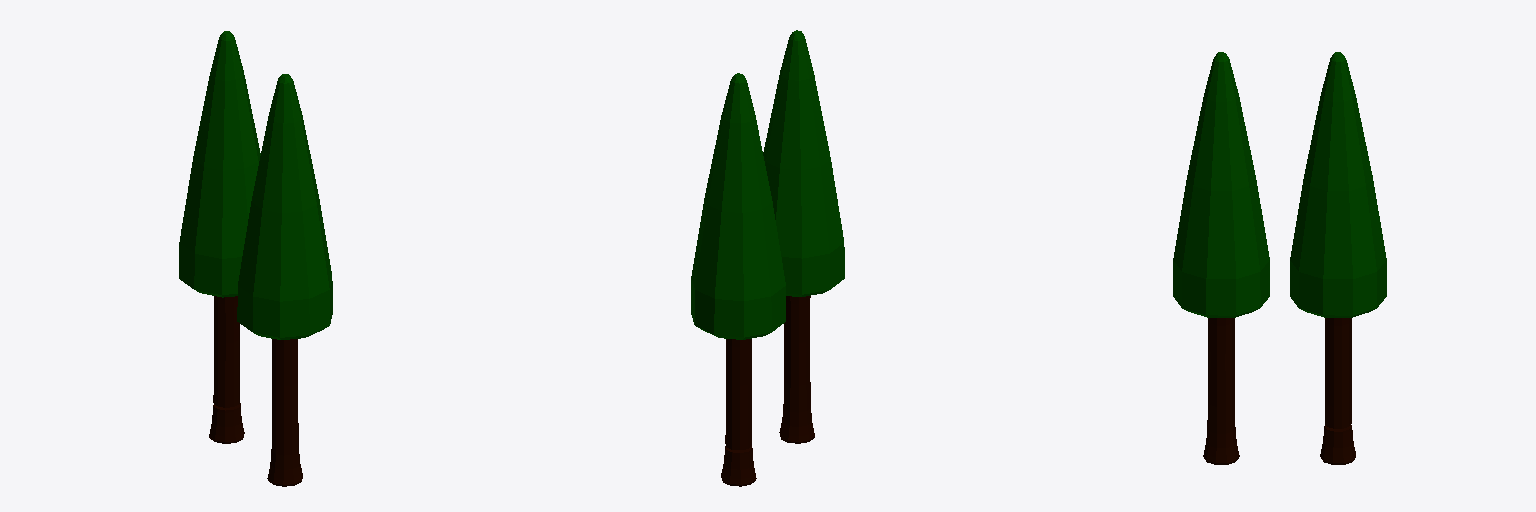
File: Pino.obj
3 renders of one model, left to right at view 1: azimuth 30°, elevation 25°; view 2: azimuth 150°, elevation 25°; view 3: azimuth 270°, elevation 25°, orthographic.
Visible parts, largest first — view 1: Pino Entero, Pino Talado, Tocon; view 2: Pino Talado, Pino Entero, Tocon; view 3: Pino Entero, Pino Talado, Tocon.
Boxes of the visible parts, x1,y1,x2,y2 form: Pino Entero: [237, 74, 332, 486]; Pino Talado: [179, 31, 260, 407]; Tocon: [209, 403, 244, 443]; Pino Talado: [691, 73, 785, 449]; Pino Entero: [763, 30, 844, 443]; Tocon: [721, 446, 756, 486]; Pino Entero: [1173, 52, 1269, 464]; Pino Talado: [1290, 52, 1386, 428]; Tocon: [1320, 425, 1355, 464].
Size of the model in its own units: 2.39 by 11.45 by 5.5.